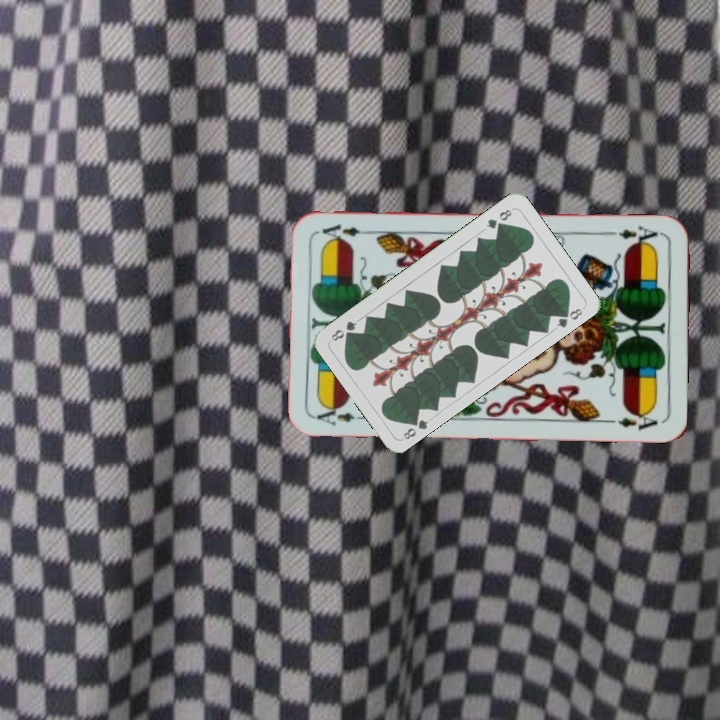EA: (313, 402, 371, 428), (615, 221, 664, 248)
G8: (399, 412, 431, 442), (482, 205, 515, 232)
